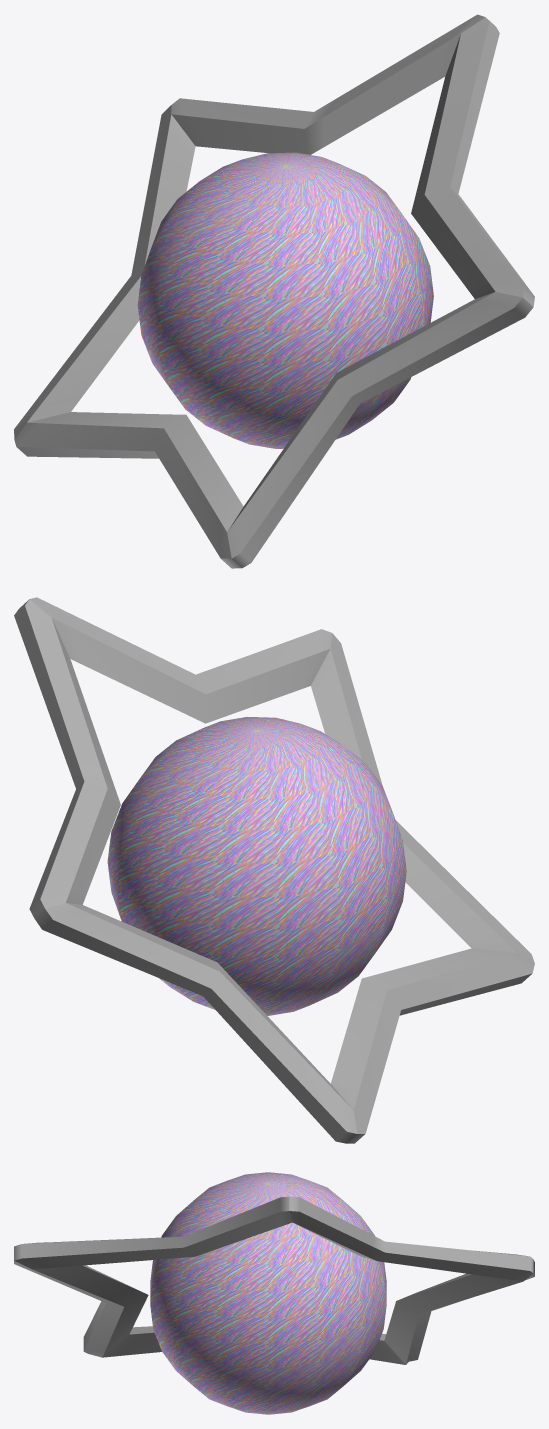
File: starplanet.fbx
3 views of the same model, one above another, from view 1: azimuth 30°, elevation 25°; view 2: azimuth 150°, elevation 25°; view 3: azimuth 270°, elevation 25° (orthographic). The views are drawn at different scales.
Visible parts, largest first — view 1: pTorus1, pSphere1; view 2: pSphere1, pTorus1; view 3: pSphere1, pTorus1.
Boxes of the visible parts, <box> form: pTorus1: <box>14,14,534,568</box>; pSphere1: <box>137,152,433,448</box>; pSphere1: <box>107,717,406,1015</box>; pTorus1: <box>14,597,534,1143</box>; pSphere1: <box>150,1172,386,1414</box>; pTorus1: <box>14,1196,534,1364</box>.
Size of the model in its own units: 5.74 by 5.26 by 7.71.
